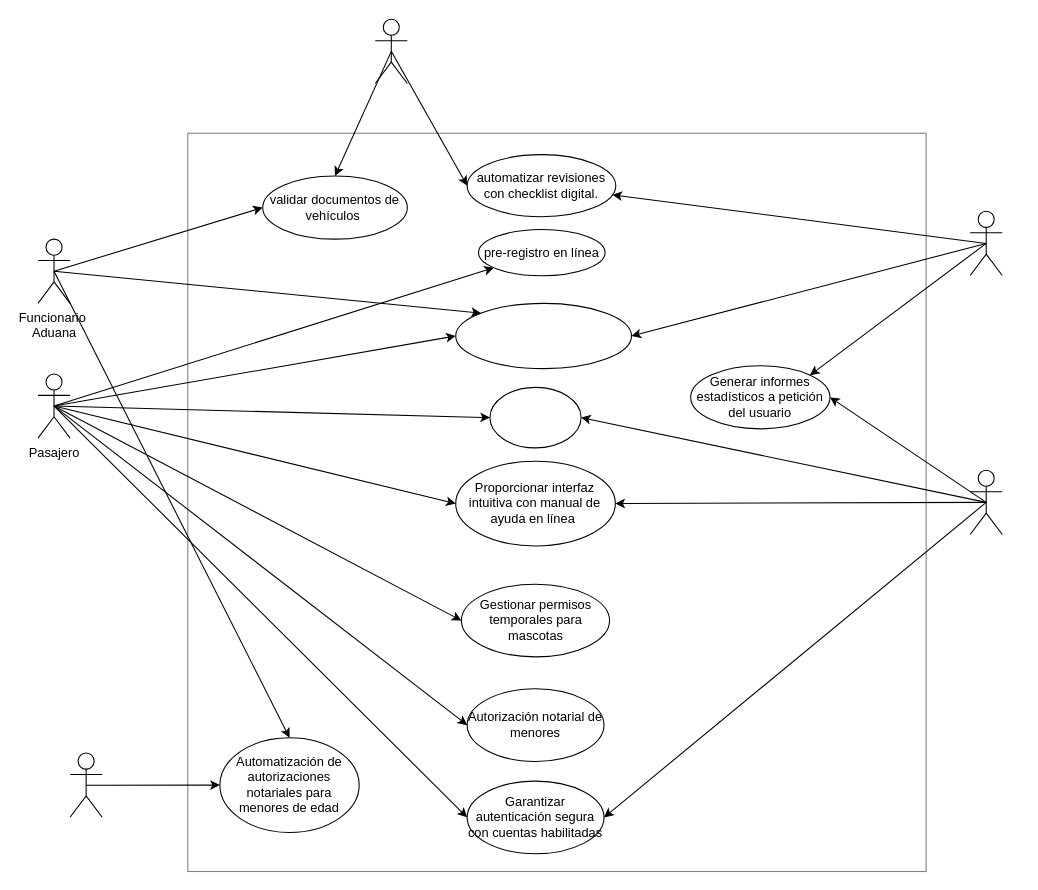
The diagram is 1038 pixels wide and 890 high, and some of its shapes have lost their labels. The box of each missing label's shape, as (x1, y1, x2, y2) in pixels:
Chatbot con IA: (489, 386, 581, 448)
Digitalizar declaraciones juradas: (455, 302, 632, 369)
Funcionario PDI: (374, 18, 407, 83)
Funcionario SAG: (969, 210, 1002, 276)
Soporte: (969, 469, 1002, 534)
Tutor: (69, 752, 102, 817)
